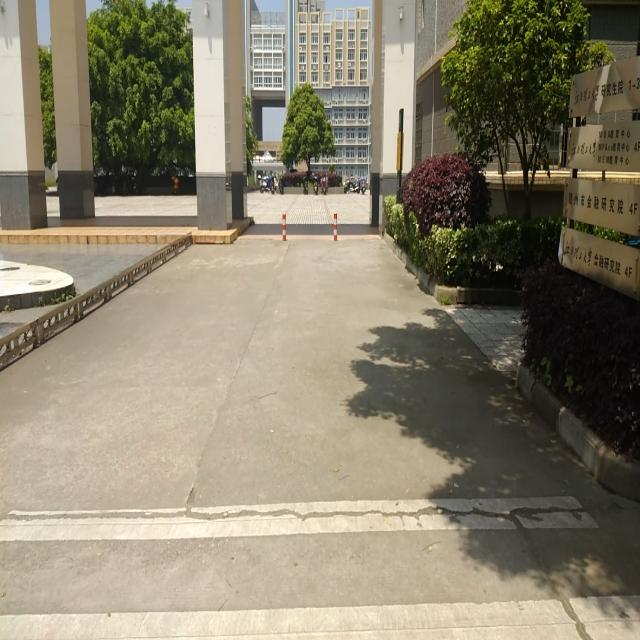warning_column: (331, 212, 339, 242), (280, 212, 287, 241)
